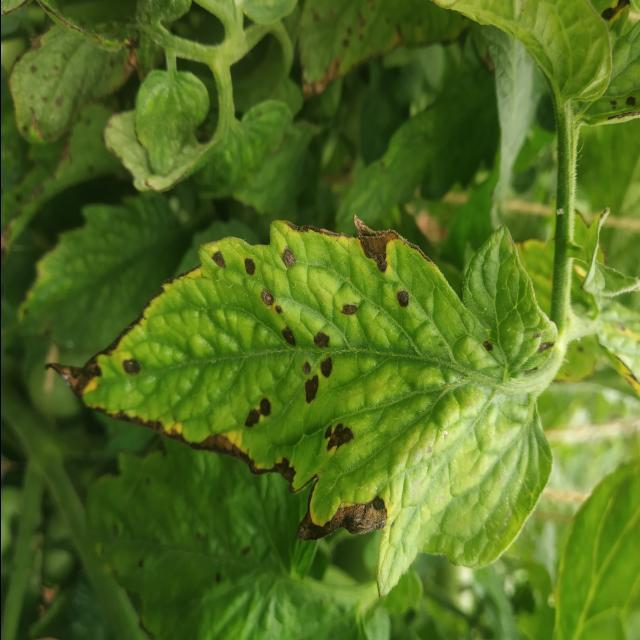Tomato mosaic virus leaf: (37, 209, 556, 552)
